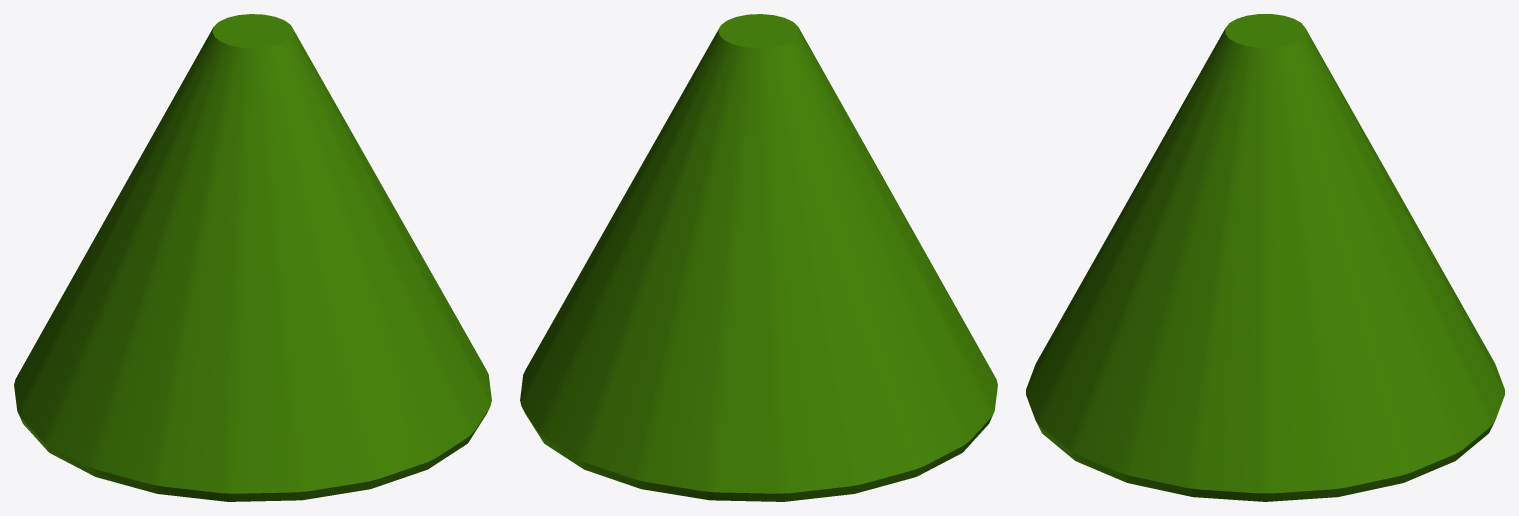
The model's file is SLIME kegel V2.fbx.
The picture shows the model from 3 angles, left to right: view 1: azimuth 30°, elevation 25°; view 2: azimuth 150°, elevation 25°; view 3: azimuth 270°, elevation 25°; orthographic projection.
Parts seen in each view (by area): view 1: gewone_tegel1; view 2: gewone_tegel1; view 3: gewone_tegel1.
Part boxes in pixels (x1,y1,x2,y2): gewone_tegel1: (14,14,491,501); gewone_tegel1: (520,14,997,501); gewone_tegel1: (1026,14,1504,501).
Bounding box in the file's own units: 97.25 × 83.29 × 97.25.
